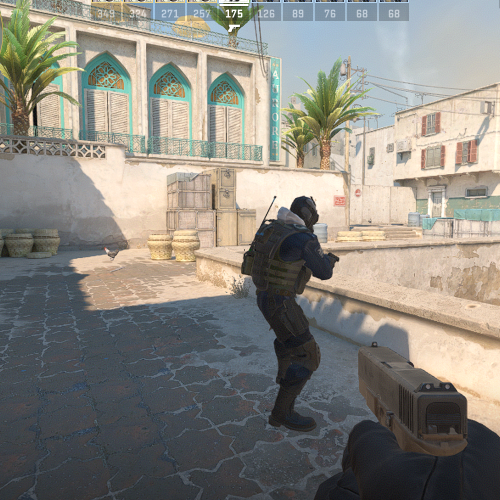chicken: (103, 245, 120, 261)
ct_body: (246, 197, 331, 431)
ct_head: (284, 196, 319, 232)
